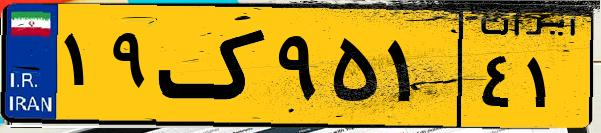1: (385, 28, 445, 110), (57, 26, 110, 100), (525, 38, 570, 115)
4: (475, 38, 525, 113)
5: (330, 28, 385, 110)
9: (270, 28, 330, 110), (110, 28, 158, 98)
ک: (158, 12, 270, 120)
